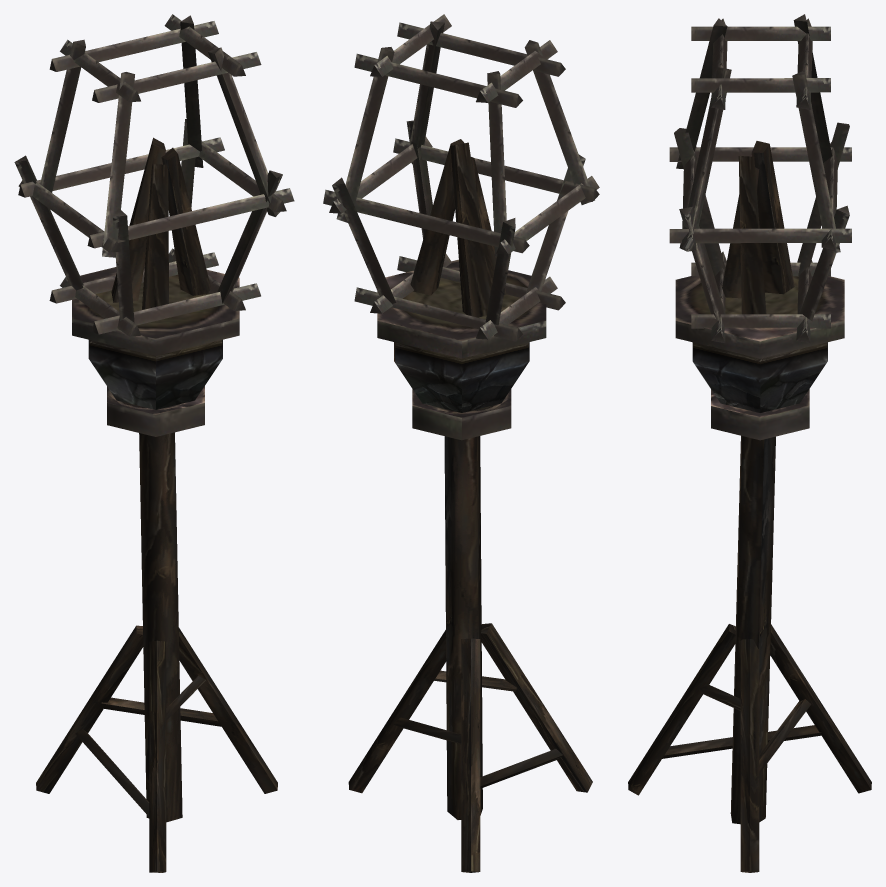
Rendered from Z_huopen.fbx.
3 renders of one model, left to right at view 1: azimuth 30°, elevation 25°; view 2: azimuth 150°, elevation 25°; view 3: azimuth 270°, elevation 25°, orthographic.
Parts seen in each view (by area): view 1: Z_huopen; view 2: Z_huopen; view 3: Z_huopen.
Part boxes in pixels (x1,y1,x2,y2): Z_huopen: (14,14,294,872); Z_huopen: (323,14,599,872); Z_huopen: (628,14,871,872).
Bounding box in the file's own units: 60.18 × 205 × 58.35.
